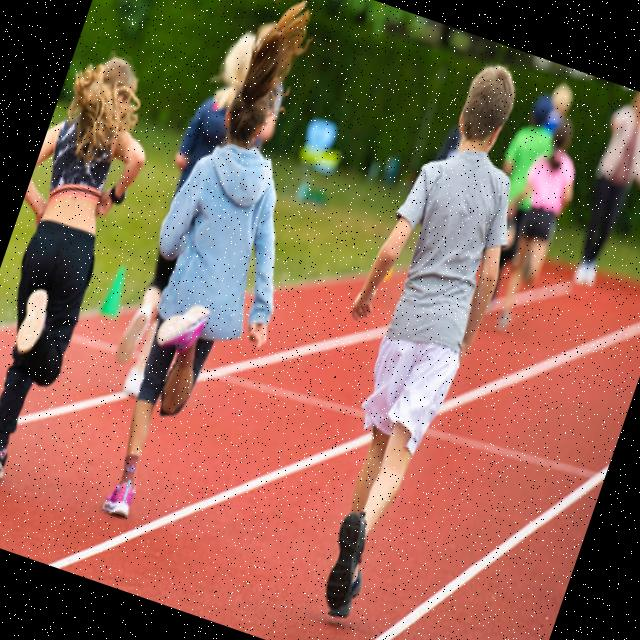Person: (254, 44, 564, 630), (67, 0, 376, 542), (0, 42, 173, 493)
